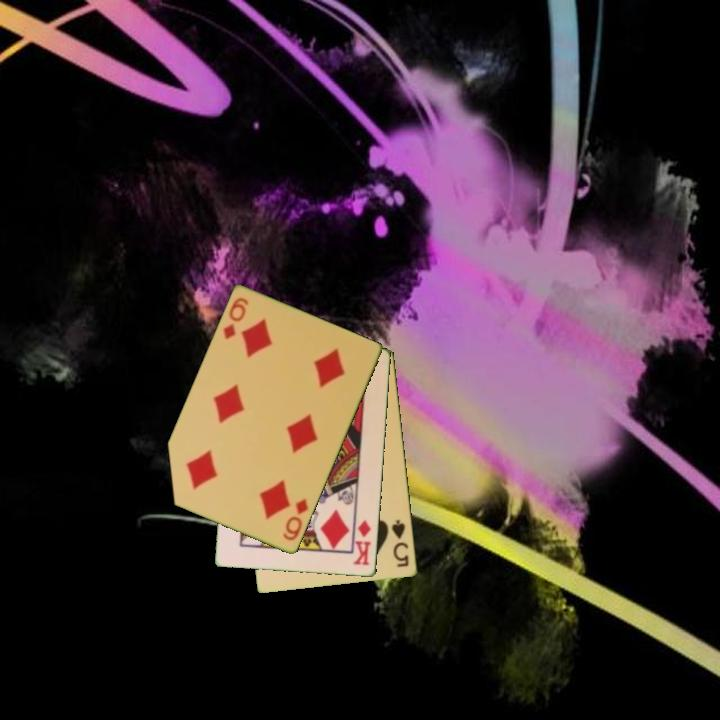5s: (388, 516, 412, 570)
6d: (219, 294, 252, 343), (279, 496, 312, 544)
Kd: (350, 517, 374, 568)
